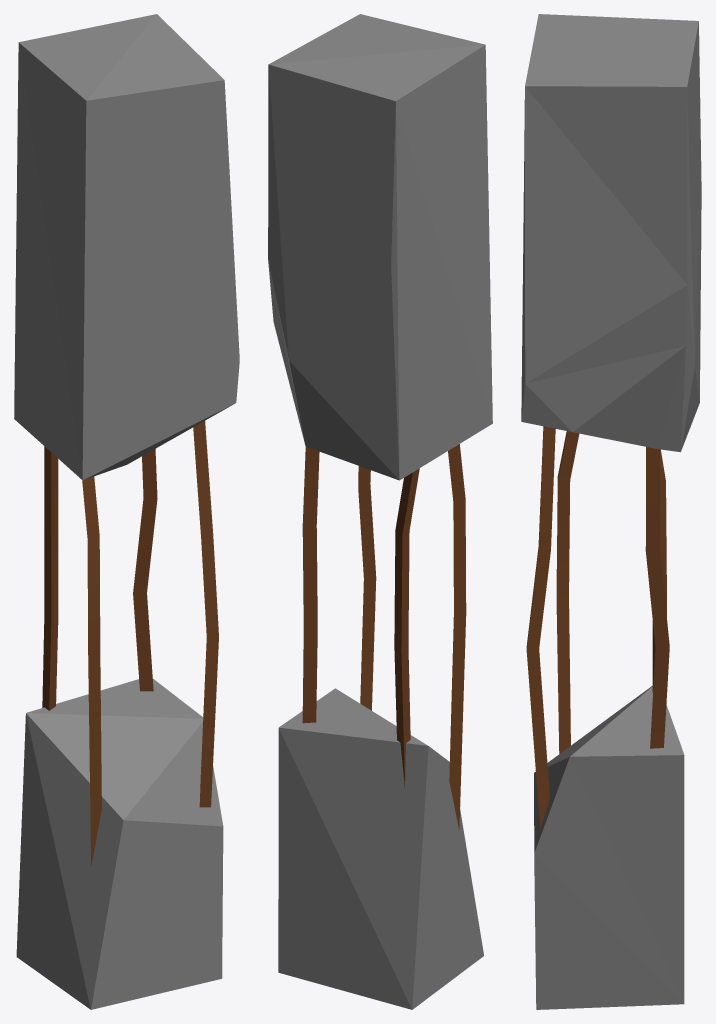
Rendered from SM_pillar_broken_01.fbx.
3 views of the same model, side by side, from view 1: azimuth 30°, elevation 25°; view 2: azimuth 150°, elevation 25°; view 3: azimuth 270°, elevation 25° (orthographic). The views are drawn at different scales.
Parts seen in each view (by area): view 1: Object051; view 2: Object051; view 3: Object051.
Part boxes in pixels (x1=…): Object051: x1=14, y1=14, x2=239, y2=1009; Object051: x1=268, y1=14, x2=492, y2=1009; Object051: x1=521, y1=14, x2=701, y2=1009.
Size of the model in its own units: 29.43 by 168 by 29.55.
